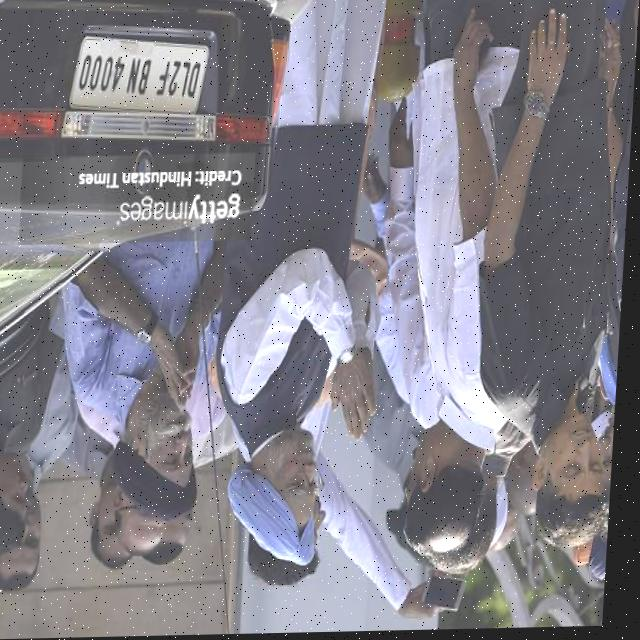plate: (70, 33, 214, 121)
